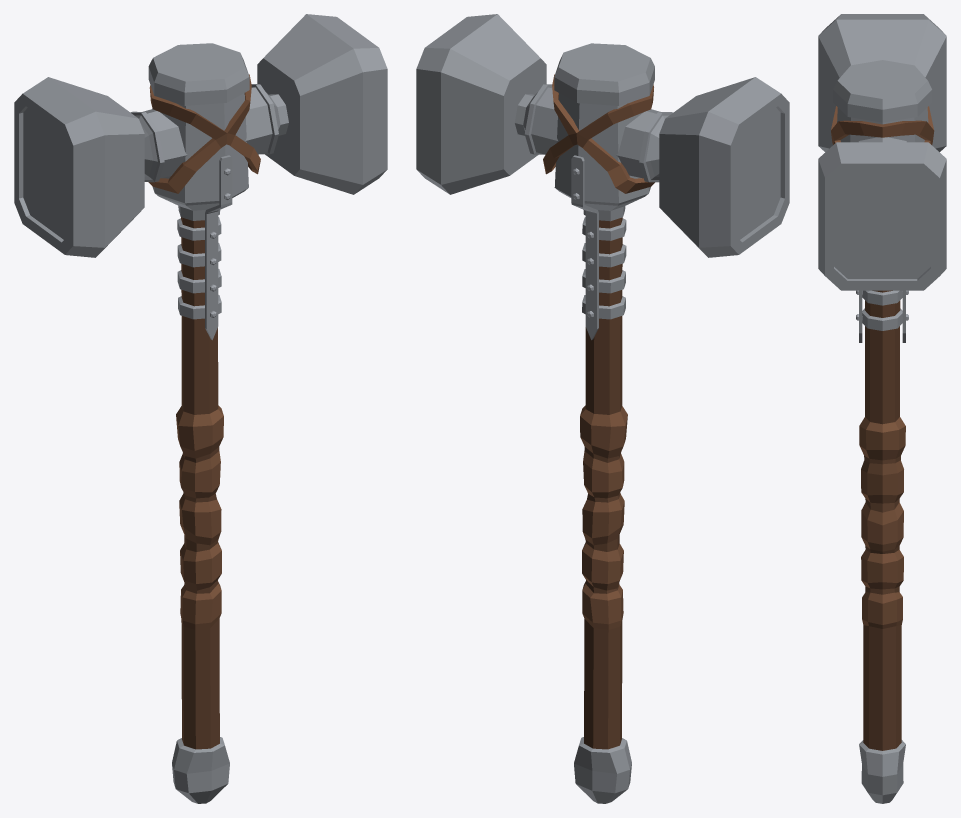
The model's file is Hammer_Double.gltf.
The picture shows the model from 3 angles, left to right: view 1: azimuth 30°, elevation 25°; view 2: azimuth 150°, elevation 25°; view 3: azimuth 270°, elevation 25°; orthographic projection. The views are drawn at different scales.
Visible parts, largest first — view 1: Hammer_Double; view 2: Hammer_Double; view 3: Hammer_Double.
Part boxes in pixels (left/top/right/bottom): Hammer_Double: left=14, top=14, right=387, bottom=803; Hammer_Double: left=416, top=14, right=789, bottom=803; Hammer_Double: left=818, top=14, right=946, bottom=803.
Size of the model in its own units: 2.22 by 4.97 by 0.8057.
